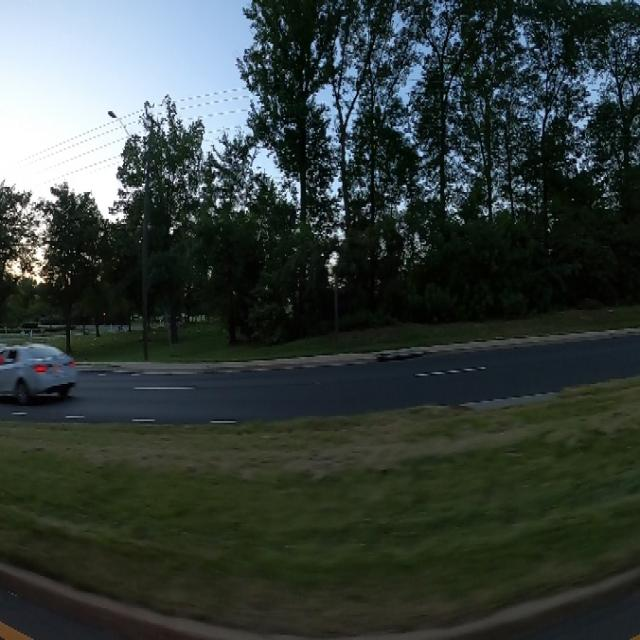cars: (0, 328, 80, 407)
